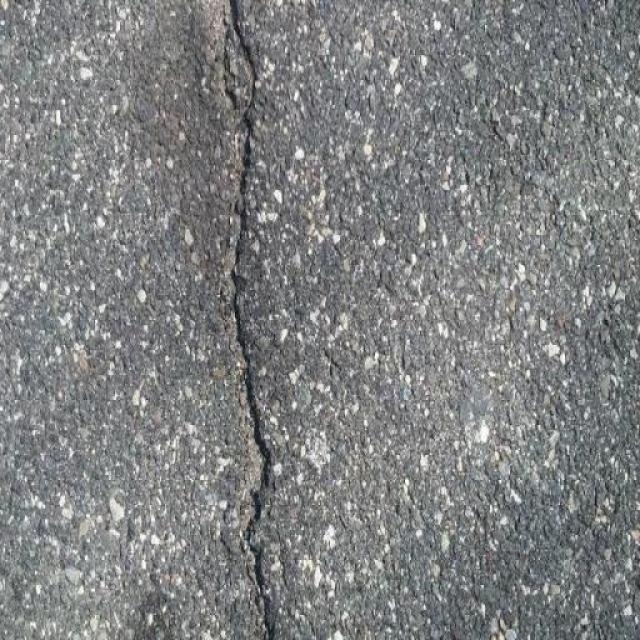Crack: (218, 0, 286, 640)
